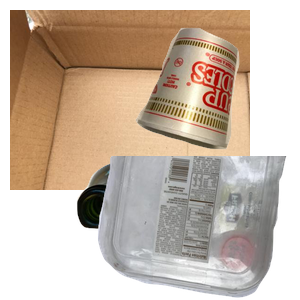cardboard: (10, 10, 250, 190)
glass: (74, 158, 223, 300)
plastic: (95, 156, 300, 300)
trash: (133, 25, 300, 167)
